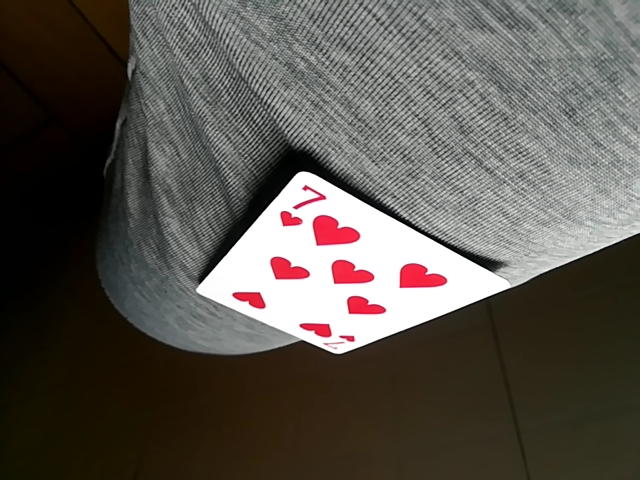hx 7: (194, 172, 506, 356)
